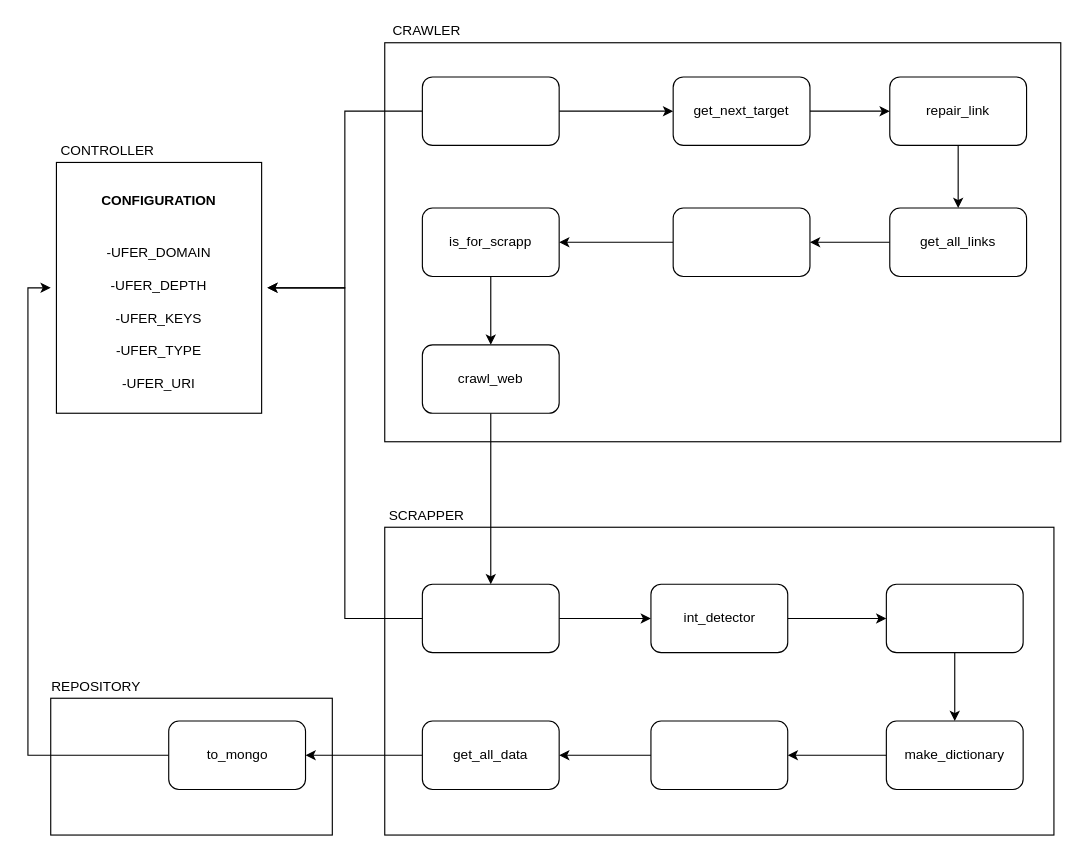
The diagram is 1081 pixels wide and 864 high, and some of its shapes have lost their labels. The centre of each missing label's shape, as x and y in pixels:
"get_all_values" belongs at (719,754).
"get_content" belongs at (490,110).
"scrapp" belongs at (490,618).
"string_to_list" belongs at (954,618).
"union" belongs at (741,241).
